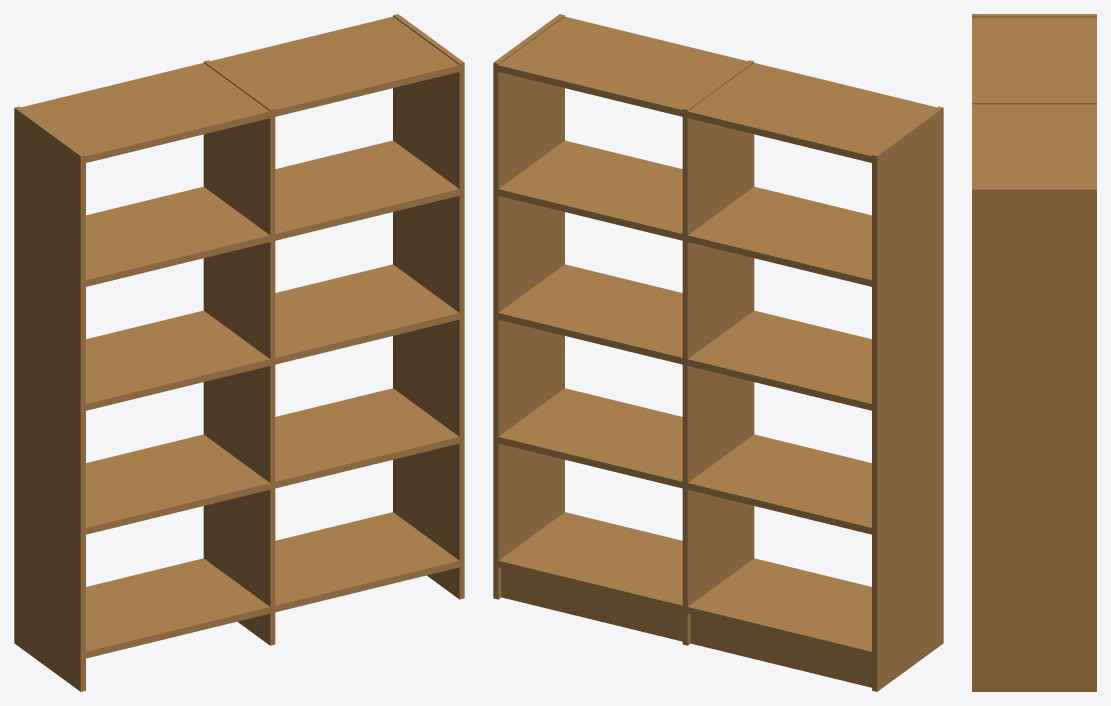
File: parametric-shelf-3rd.glb
3 views of the same model, side by side, from view 1: azimuth 30°, elevation 25°; view 2: azimuth 150°, elevation 25°; view 3: azimuth 270°, elevation 25° (orthographic). The views are drawn at different scales.
Parts seen in each view (by area): view 1: parametric-shelf-3rd; view 2: parametric-shelf-3rd; view 3: parametric-shelf-3rd.
Part boxes in pixels (box(x1,y1,x2,y2)): parametric-shelf-3rd: box(14, 14, 464, 691); parametric-shelf-3rd: box(493, 14, 943, 691); parametric-shelf-3rd: box(972, 14, 1096, 691).
Bounding box in the file's own units: 1.5 × 2 × 0.45.
